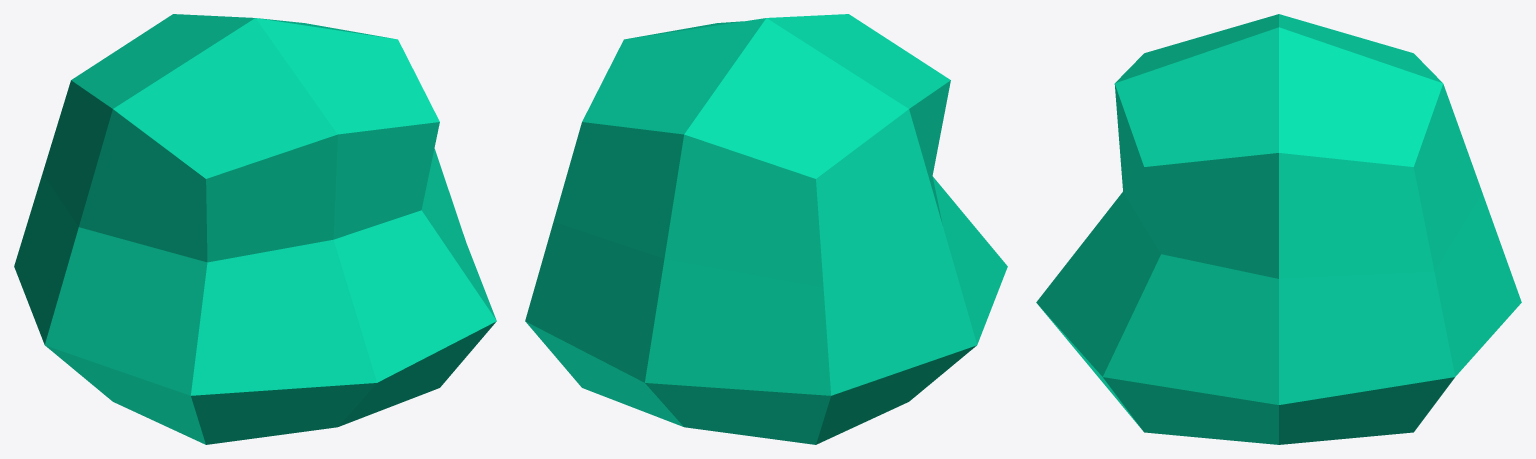
Rendered from Slime_Color.fbx.
The picture shows the model from 3 angles, left to right: view 1: azimuth 30°, elevation 25°; view 2: azimuth 150°, elevation 25°; view 3: azimuth 270°, elevation 25°; orthographic projection.
Visible parts, largest first — view 1: Slime; view 2: Slime; view 3: Slime.
Boxes of the visible parts, <box> form: Slime: <box>14,14,496,444</box>; Slime: <box>525,14,1007,444</box>; Slime: <box>1036,14,1521,444</box>.
Bounding box in the file's own units: 11.9 × 9.42 × 11.9.
